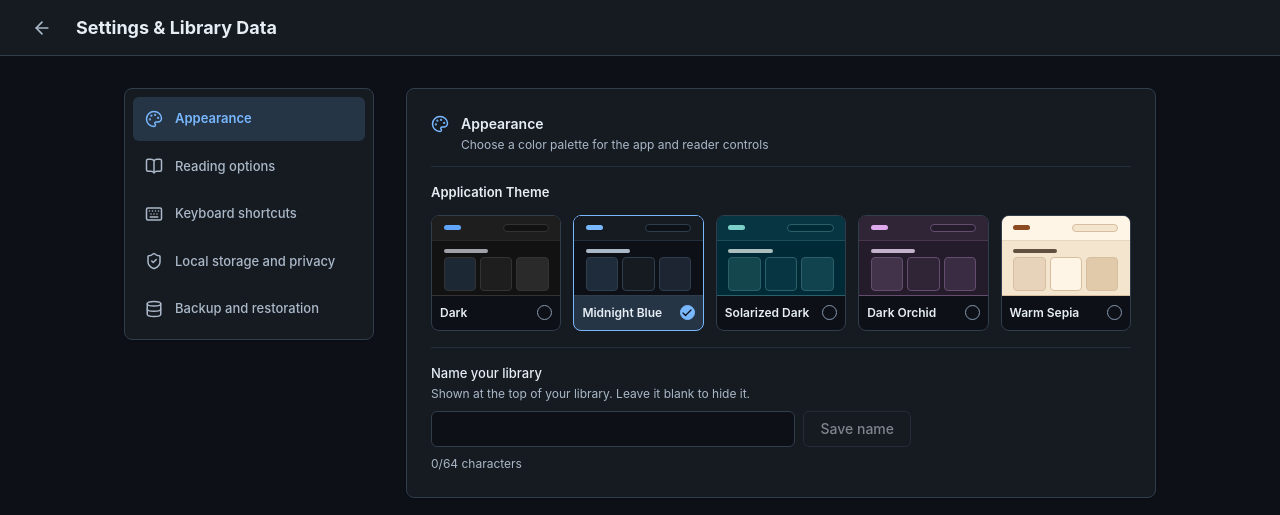
SettingsView master-detail browser-style navigation › switches to Keyboard shortcuts section and displays hotkey reference
Step 1. Click the tab "Keyboard shortcuts" → (249, 214), box [133, 192, 365, 236]
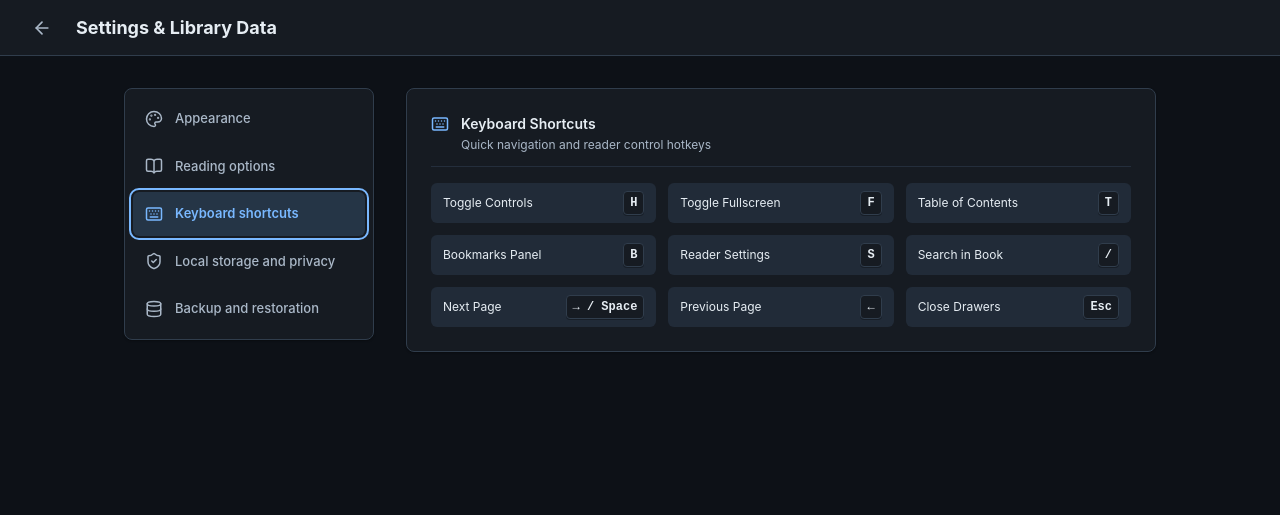
Result: the text "Toggle Fullscreen" is shown at [680, 194, 780, 212]
Result: the text "Table of Contents" is shown at [918, 194, 1018, 212]
Result: the text "Reader Settings" is shown at [680, 246, 770, 264]
